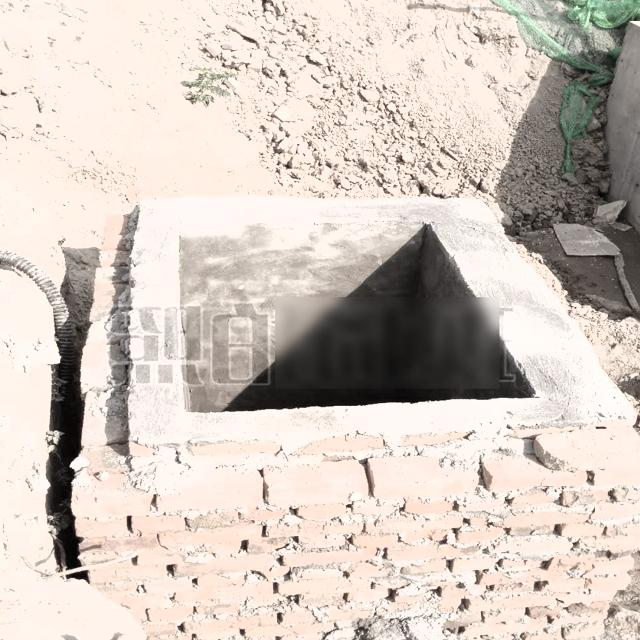lose: (127, 198, 635, 443)
